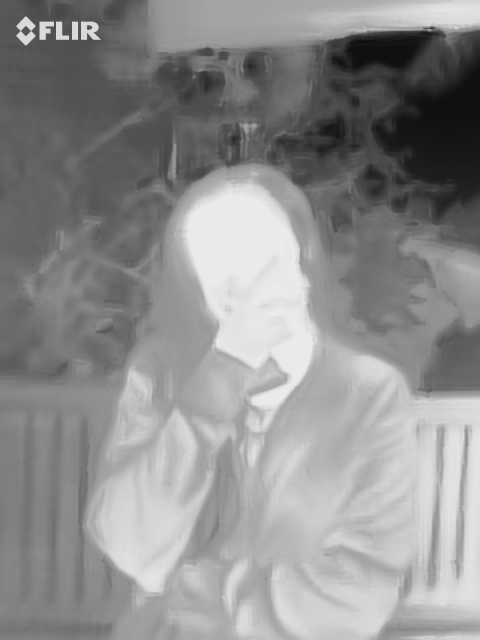head: (186, 171, 315, 331)
